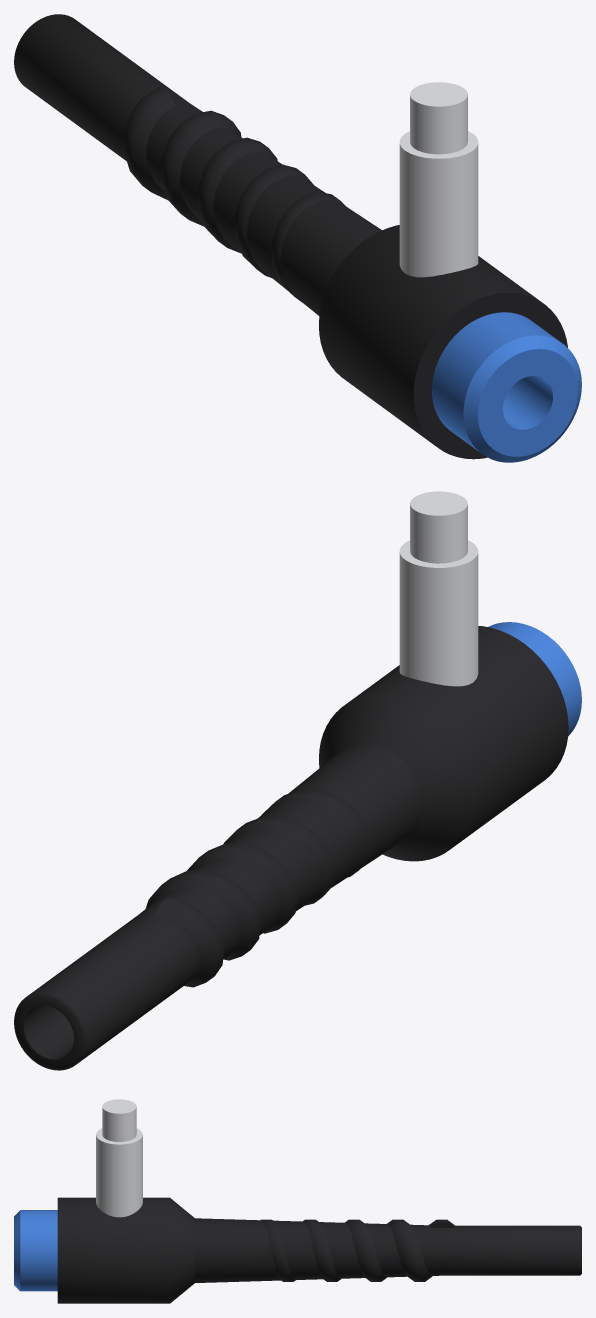
The model's file is trocar-sleeve-with-valves.39ac5f1dfd42.glb.
The picture shows the model from 3 angles, top to bottom: view 1: azimuth 30°, elevation 25°; view 2: azimuth 150°, elevation 25°; view 3: azimuth 270°, elevation 25°; orthographic projection. The views are drawn at different scales.
Visible parts, largest first — view 1: sleeveHead, sleeveTube; view 2: sleeveHead, sleeveTube; view 3: sleeveTube, sleeveHead.
Boxes of the visible parts, bbox=[...] form: sleeveHead: bbox=[319, 82, 581, 462]; sleeveTube: bbox=[14, 14, 381, 315]; sleeveHead: bbox=[319, 491, 581, 861]; sleeveTube: bbox=[14, 742, 422, 1070]; sleeveTube: bbox=[195, 1218, 581, 1282]; sleeveHead: bbox=[14, 1099, 194, 1303].
Bounding box in the file's own units: 17 × 34 × 91.
